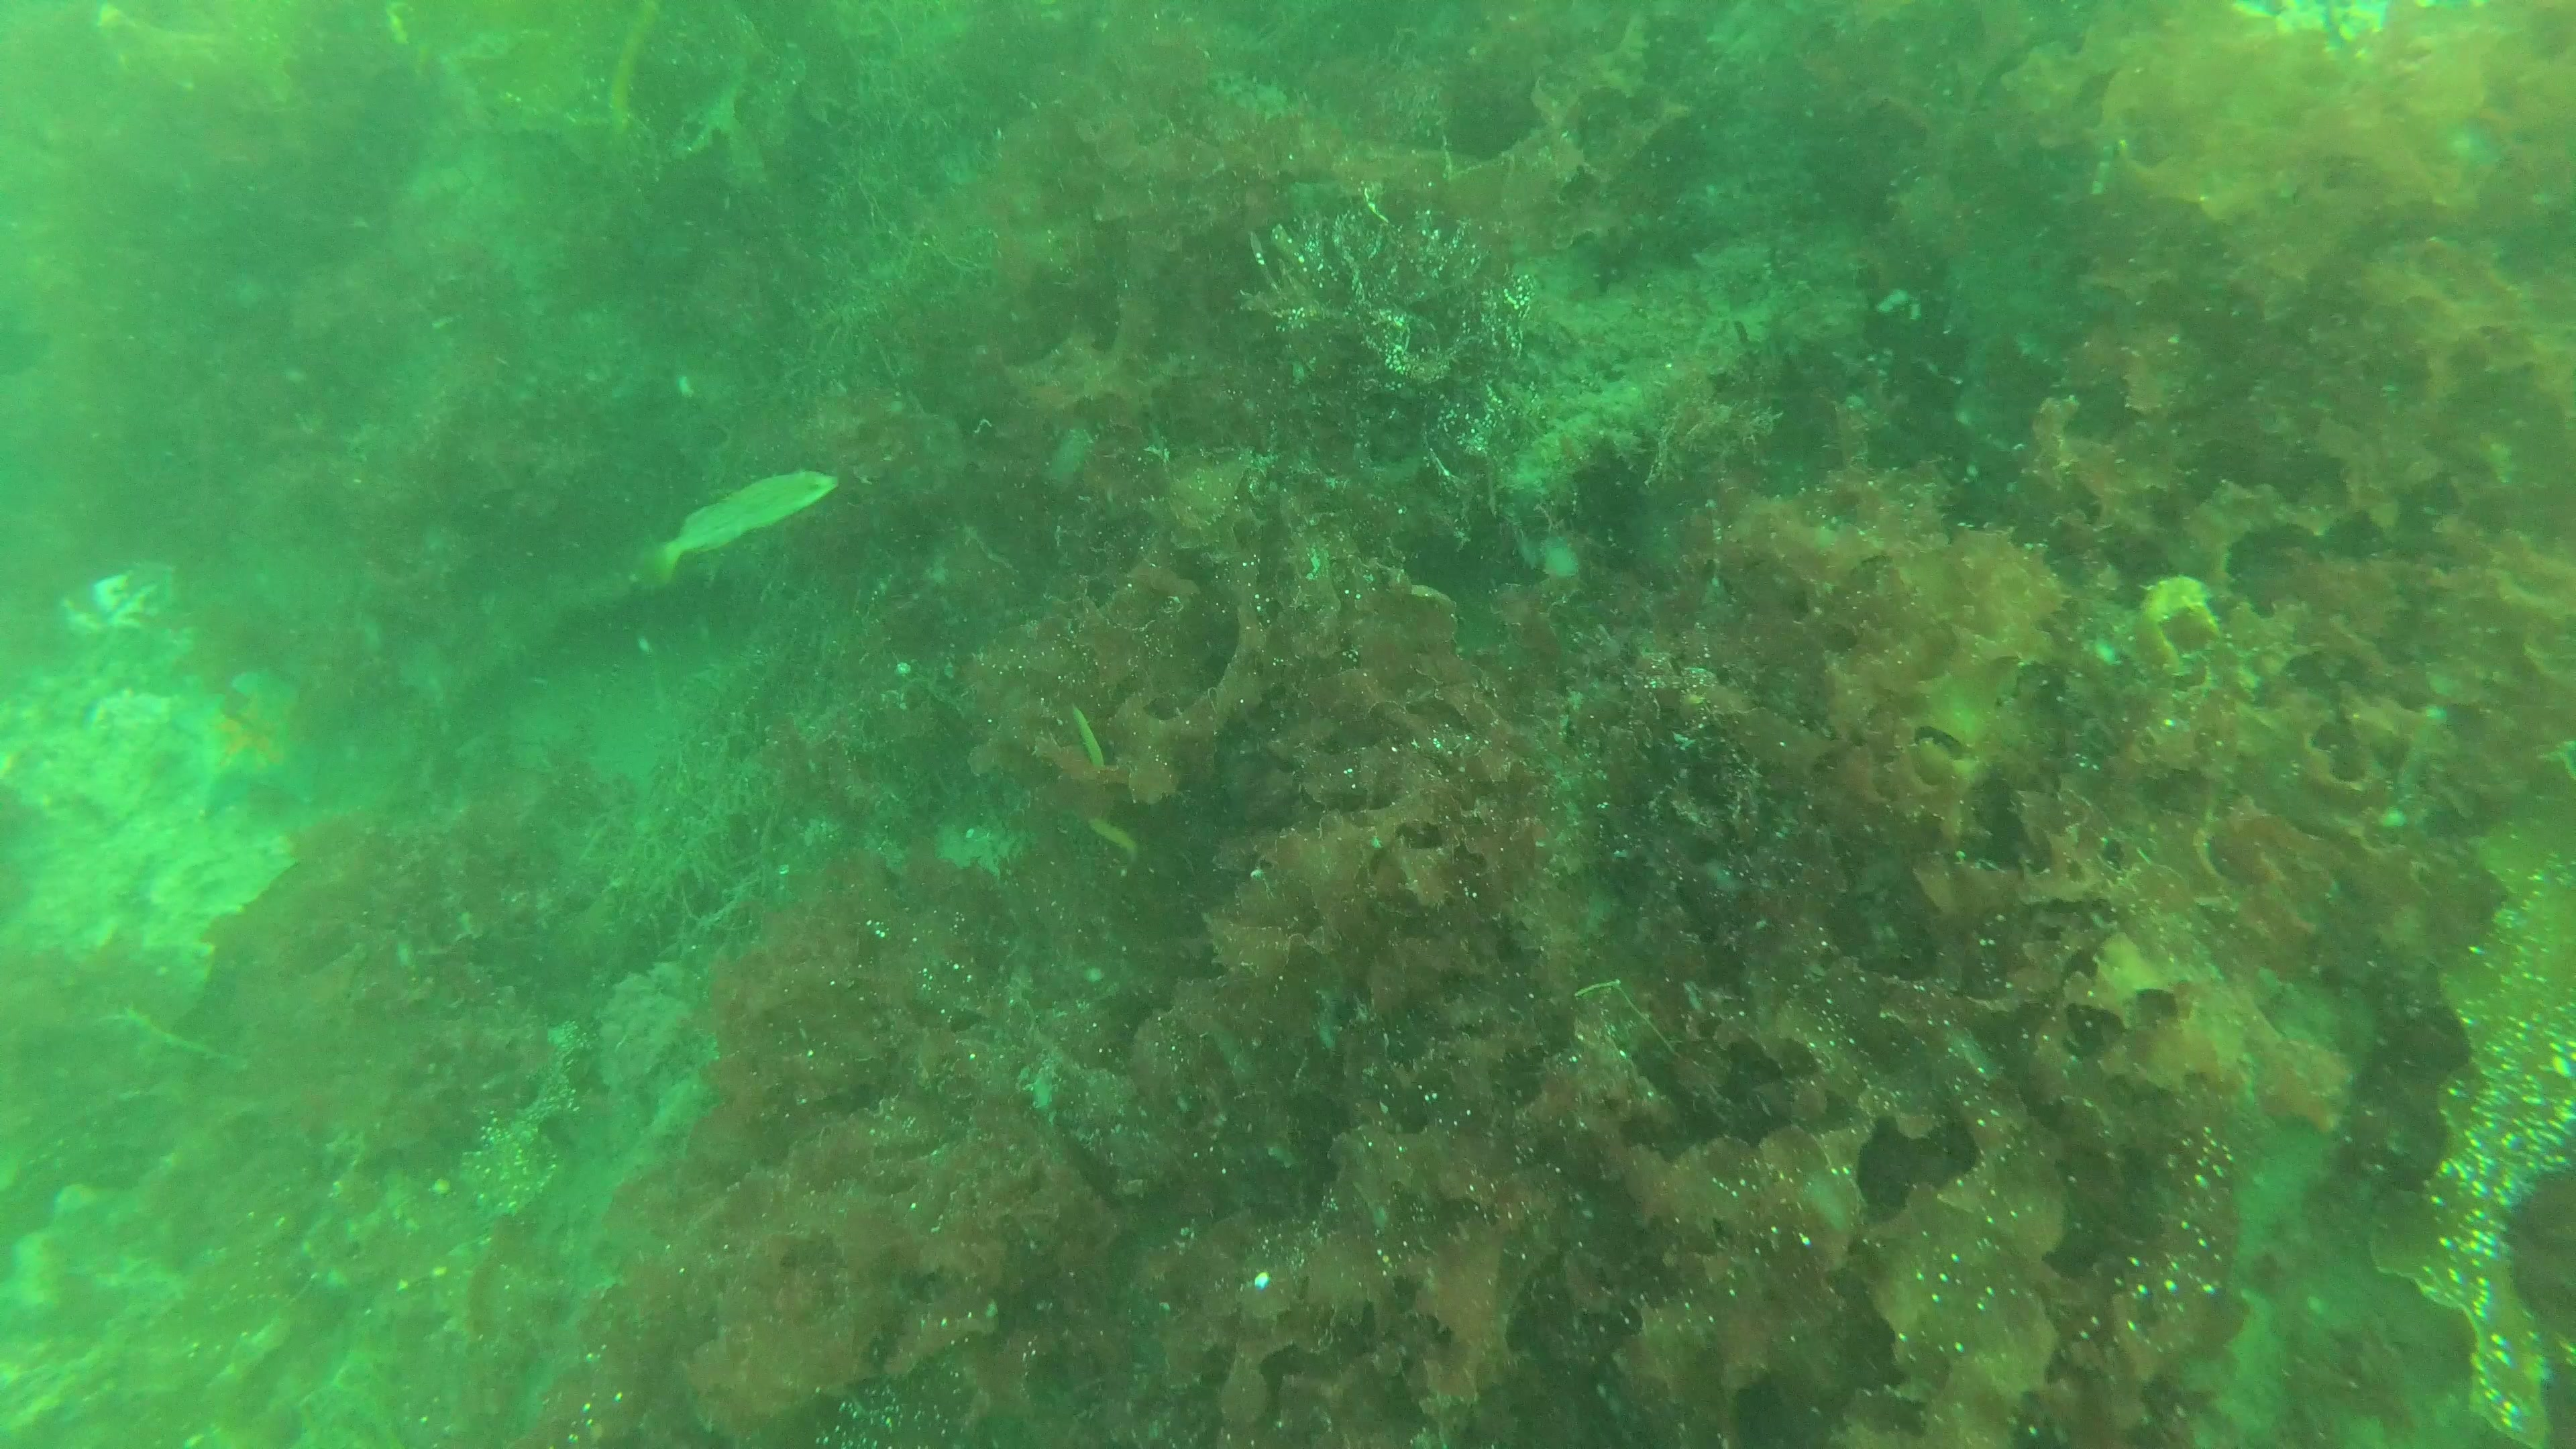starfish: (165, 656, 343, 821)
